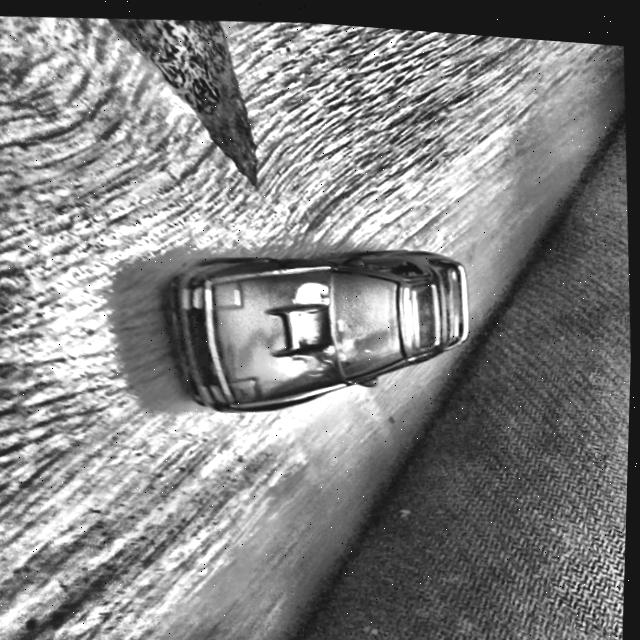car: (162, 226, 478, 427)
